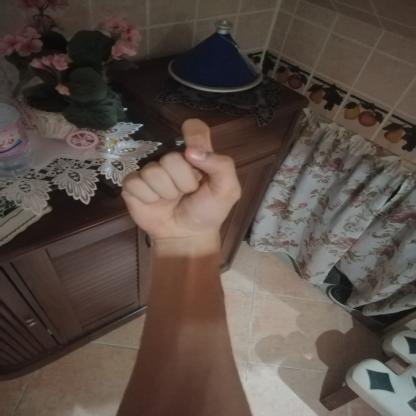FAA: (107, 110, 251, 249)
